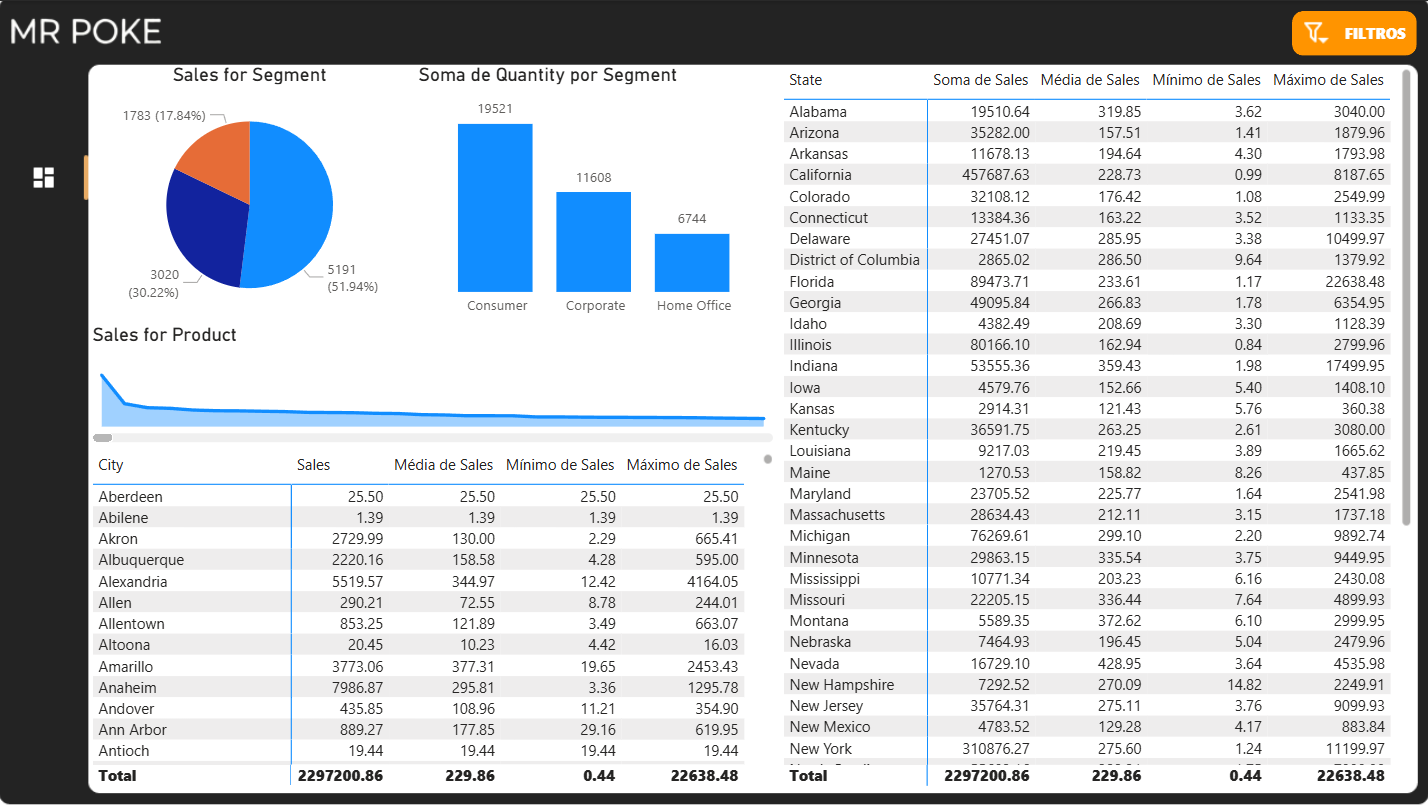

The dashboard page shown, as its layout file describes it:
{"tool":"powerbi","page":{"name":"Página 1","canvas":[1280,720],"ordinal":0},"visuals":[{"type":"group","id":"g1","title":"Dados de Amostra","box":[78.9,55.1,1190.3,652],"z":0},{"type":"pieChart","title":"Sales for Segment","fields":{"Category":["Sample - Superstore.Segment"],"Y":["CountNonNull(Sample - Superstore.Sales)"]},"box":[79.1,55.1,291.2,234.9],"z":0,"group":"g1"},{"type":"actionButton","title":"Filtro de Dados","box":[1157,9.2,111.7,40],"z":1000},{"type":"pivotTable","fields":{"Rows":["Sample - Superstore.City"],"Values":["Sum(Sample - Superstore.Sales)","Avg(Sample - Superstore.Sales)","Min(Sample - Superstore.Sales)1","Max(Sample - Superstore.Sales)"]},"box":[78.9,399.6,619,307.4],"z":1000,"group":"g1"},{"type":"pivotTable","fields":{"Values":["Sum(Sample - Superstore.Sales)","Avg(Sample - Superstore.Sales)","Min(Sample - Superstore.Sales)1","Max(Sample - Superstore.Sales)"],"Rows":["Sample - Superstore.State"]},"box":[697.5,55.1,571.7,652],"z":2000,"group":"g1"},{"type":"clusteredColumnChart","fields":{"Y":["Sum(Sample - Superstore.Quantity)"],"Category":["Sample - Superstore.Segment"]},"box":[370.3,55.1,327.2,234.9],"z":3000,"group":"g1"},{"type":"areaChart","title":"Sales for Product","fields":{"Y":["Sum(Sample - Superstore.Sales)"],"Category":["Sample - Superstore.Product Name"]},"box":[78.9,287.9,619,111.7],"z":4000,"group":"g1"}]}

Visuals, with their boxes in screenshot pixels (x1, y1, x2, y2):
"Dados de Amostra" group: left=105, top=68, right=1415, bottom=785
"Sales for Segment" pieChart: left=106, top=68, right=426, bottom=326
"Filtro de Dados" actionButton: left=1292, top=18, right=1414, bottom=62
pivotTable - Sample - Superstore.City x Sum(Sample - Superstore.Sales): left=105, top=447, right=786, bottom=785
pivotTable - Sum(Sample - Superstore.Sales) x Avg(Sample - Superstore.Sales): left=786, top=68, right=1415, bottom=785
clusteredColumnChart - Sum(Sample - Superstore.Quantity) x Sample - Superstore.Segment: left=426, top=68, right=786, bottom=326
"Sales for Product" areaChart: left=105, top=324, right=786, bottom=447
